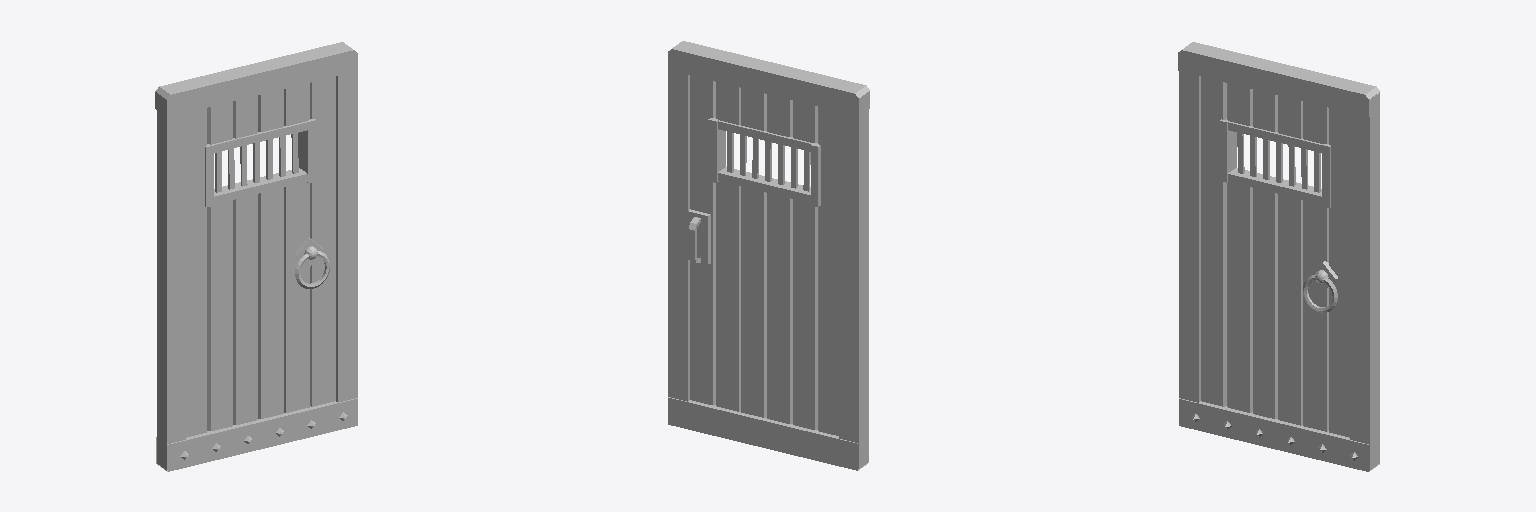
The model's file is Door_8_Flat.obj.
The picture shows the model from 3 angles: view 1: azimuth 30°, elevation 25°; view 2: azimuth 150°, elevation 25°; view 3: azimuth 330°, elevation 25°; orthographic projection.
Parts seen in each view (by area): view 1: Door_8_Flat; view 2: Door_8_Flat; view 3: Door_8_Flat.
Boxes of the visible parts, x1,y1,x2,y2 form: Door_8_Flat: [155, 42, 357, 471]; Door_8_Flat: [668, 41, 869, 470]; Door_8_Flat: [1178, 42, 1379, 471].
Size of the model in its own units: 1.12 by 2.1 by 0.1995.